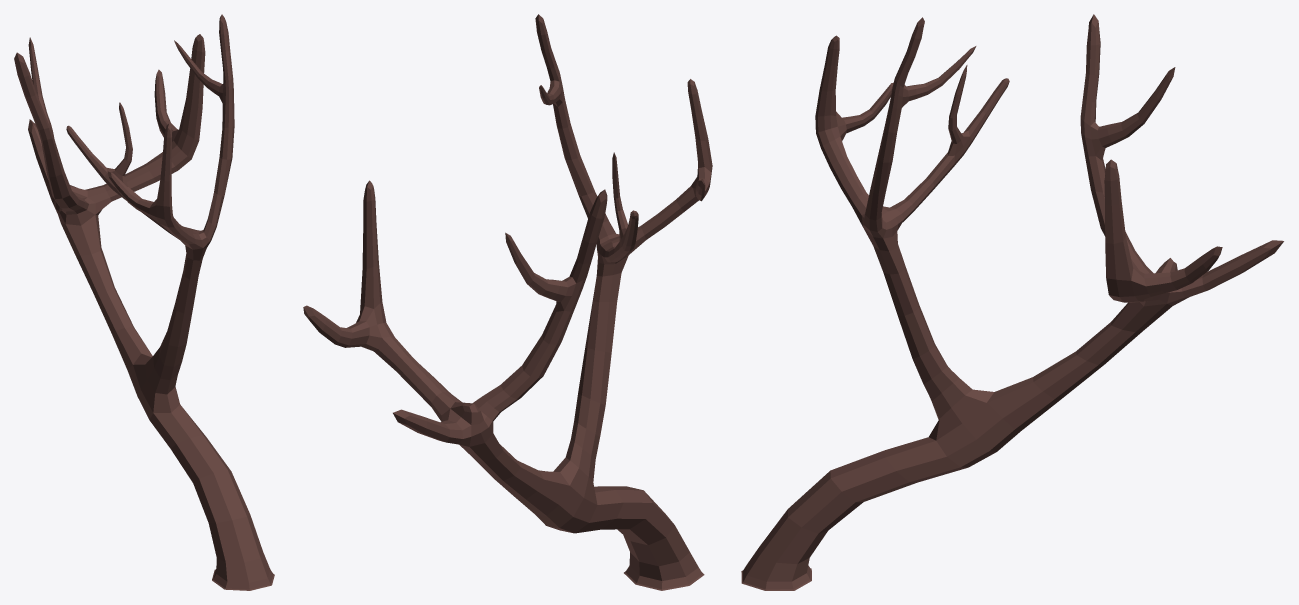
The model's file is Willow_Dead_2.gltf.
The picture shows the model from 3 angles, left to right: view 1: azimuth 30°, elevation 25°; view 2: azimuth 150°, elevation 25°; view 3: azimuth 270°, elevation 25°; orthographic projection. The views are drawn at different scales.
Visible parts, largest first — view 1: Willow_Dead_2; view 2: Willow_Dead_2; view 3: Willow_Dead_2.
Boxes of the visible parts, left/top/right/bottom form: Willow_Dead_2: left=14, top=14, right=274, bottom=590; Willow_Dead_2: left=303, top=14, right=712, bottom=590; Willow_Dead_2: left=741, top=14, right=1283, bottom=590.
Bounding box in the file's own units: 1.17 × 2.84 × 2.4.
